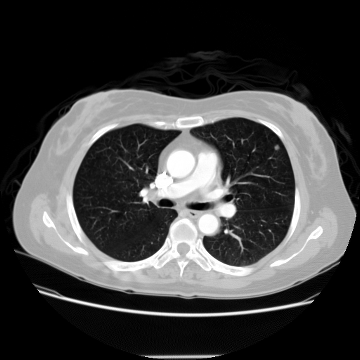nodule: (274, 144, 280, 150)
